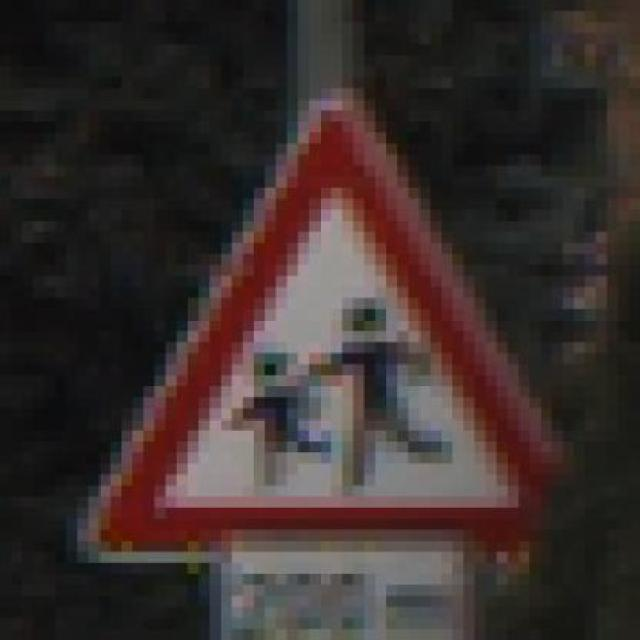Beware of children: (75, 48, 594, 590)
